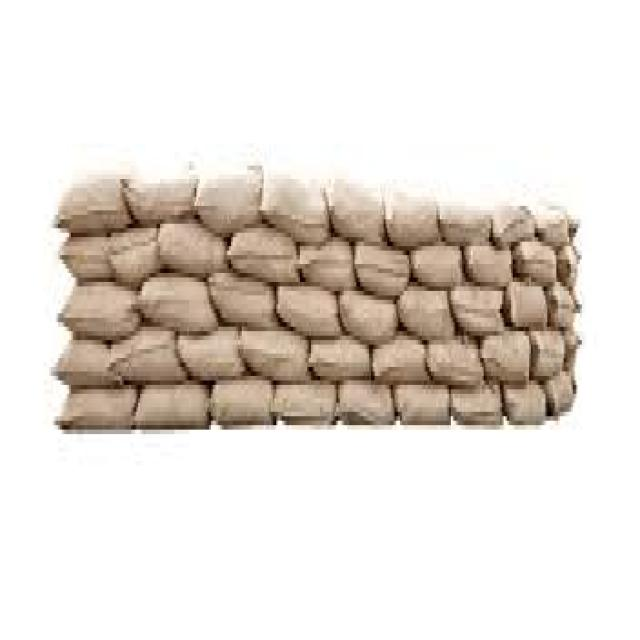sack: (56, 282, 142, 336), (138, 276, 218, 334), (54, 176, 131, 234), (262, 175, 328, 241), (227, 227, 302, 285), (194, 169, 264, 227), (53, 384, 136, 432), (114, 330, 186, 385), (209, 273, 278, 330), (242, 330, 313, 385), (158, 220, 229, 274), (124, 171, 198, 222), (329, 182, 385, 248), (52, 337, 121, 389), (277, 282, 341, 337), (135, 382, 211, 428), (384, 188, 442, 248), (340, 285, 398, 343), (398, 280, 456, 338), (209, 379, 275, 429), (178, 329, 246, 377), (106, 225, 162, 283), (355, 242, 410, 299), (57, 231, 116, 284), (299, 235, 358, 288), (273, 380, 338, 426), (309, 336, 371, 382), (481, 332, 531, 386), (338, 380, 396, 426), (372, 337, 431, 382), (426, 340, 484, 384), (451, 287, 504, 334), (395, 382, 450, 426), (452, 382, 502, 430), (408, 244, 464, 284), (439, 202, 491, 245), (465, 244, 512, 286), (504, 285, 546, 332), (530, 327, 565, 382), (514, 241, 556, 286), (491, 208, 537, 245), (507, 384, 546, 426), (536, 209, 570, 248)
